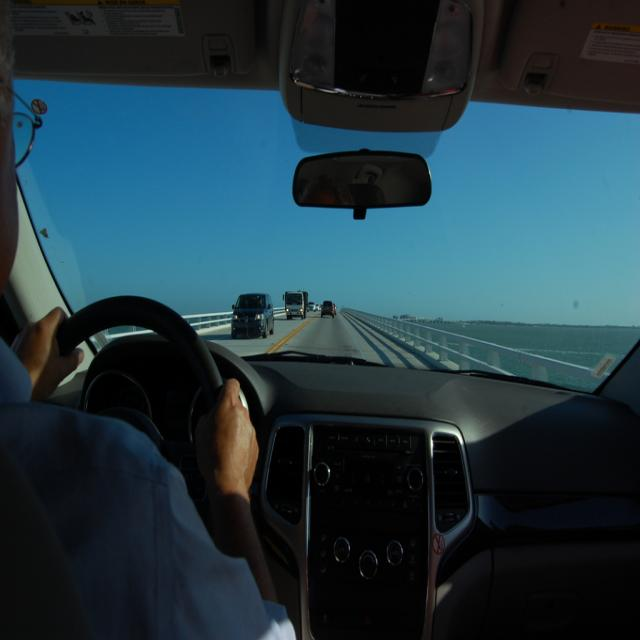other: (0, 2, 639, 638), (229, 295, 274, 336), (321, 302, 335, 318)
